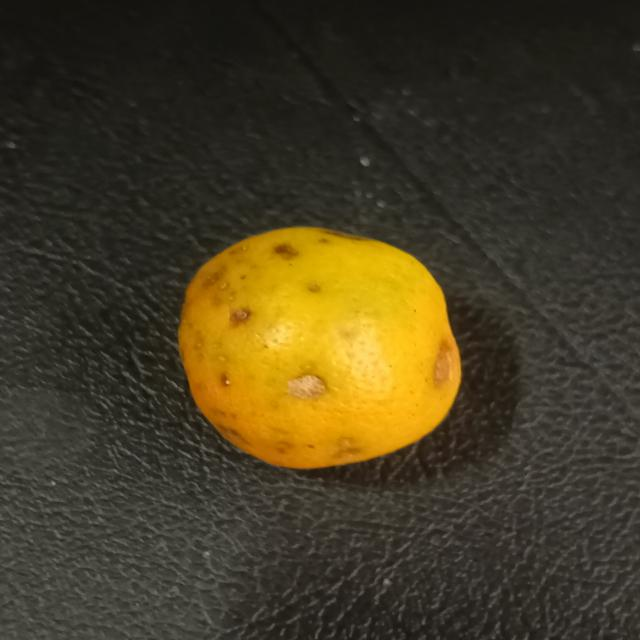black spot: (171, 218, 464, 470)
